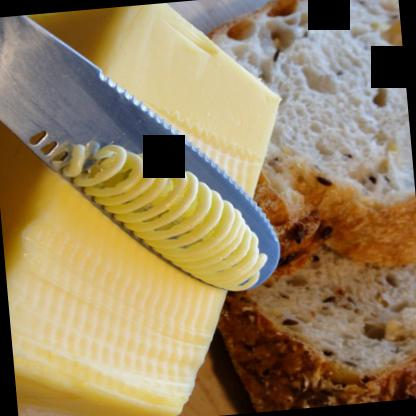bread: (198, 0, 415, 277), (206, 222, 415, 415)
butter: (0, 0, 308, 415)
